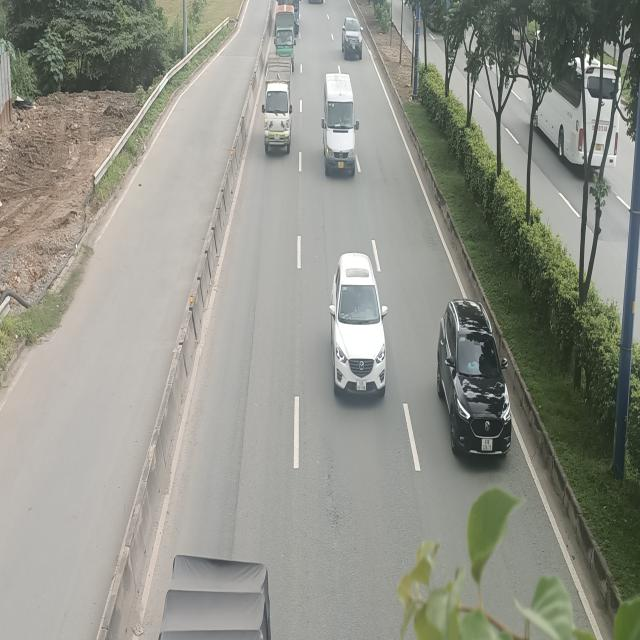car: (437, 298, 514, 458), (332, 255, 389, 404), (342, 16, 363, 60)
truck: (263, 57, 293, 155), (274, 4, 296, 72)
van: (324, 72, 361, 174)
